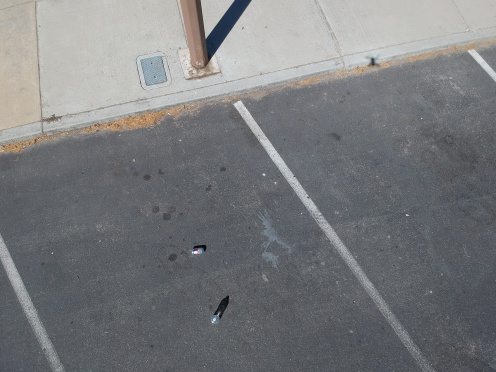bottle: (208, 314, 222, 326)
can: (186, 243, 206, 256)
